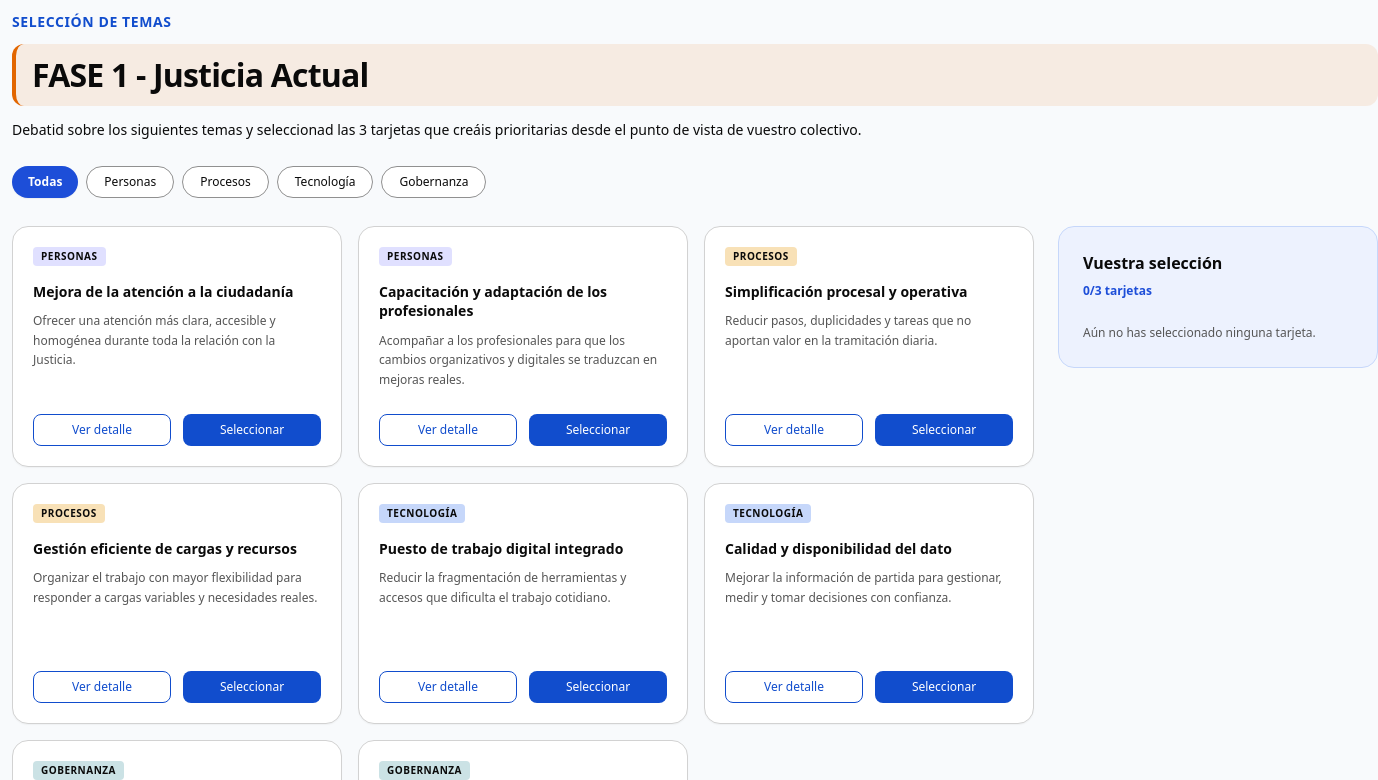
componentes principales › permite seleccionar y quitar desde la bandeja
Click the button "Seleccionar" below "Mejora de la atención a la ciudadanía": {"x": 252, "y": 430} [183,414,321,446]
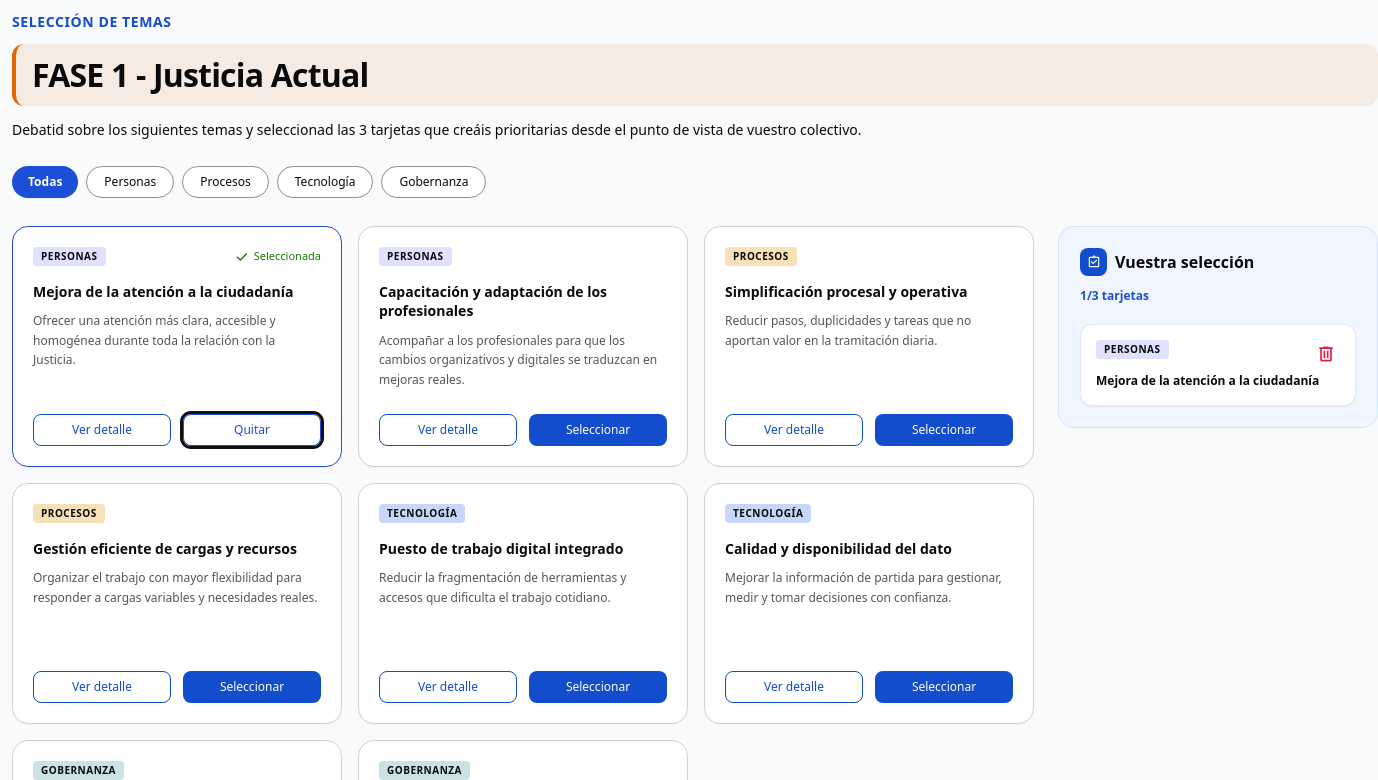
Result: the text "1/3 tarjetas" is shown at [1080,287,1149,304]
Click the button named "Quitar Mejora de la atención a la ciudadanía": {"x": 1326, "y": 354} [1312,340,1340,368]
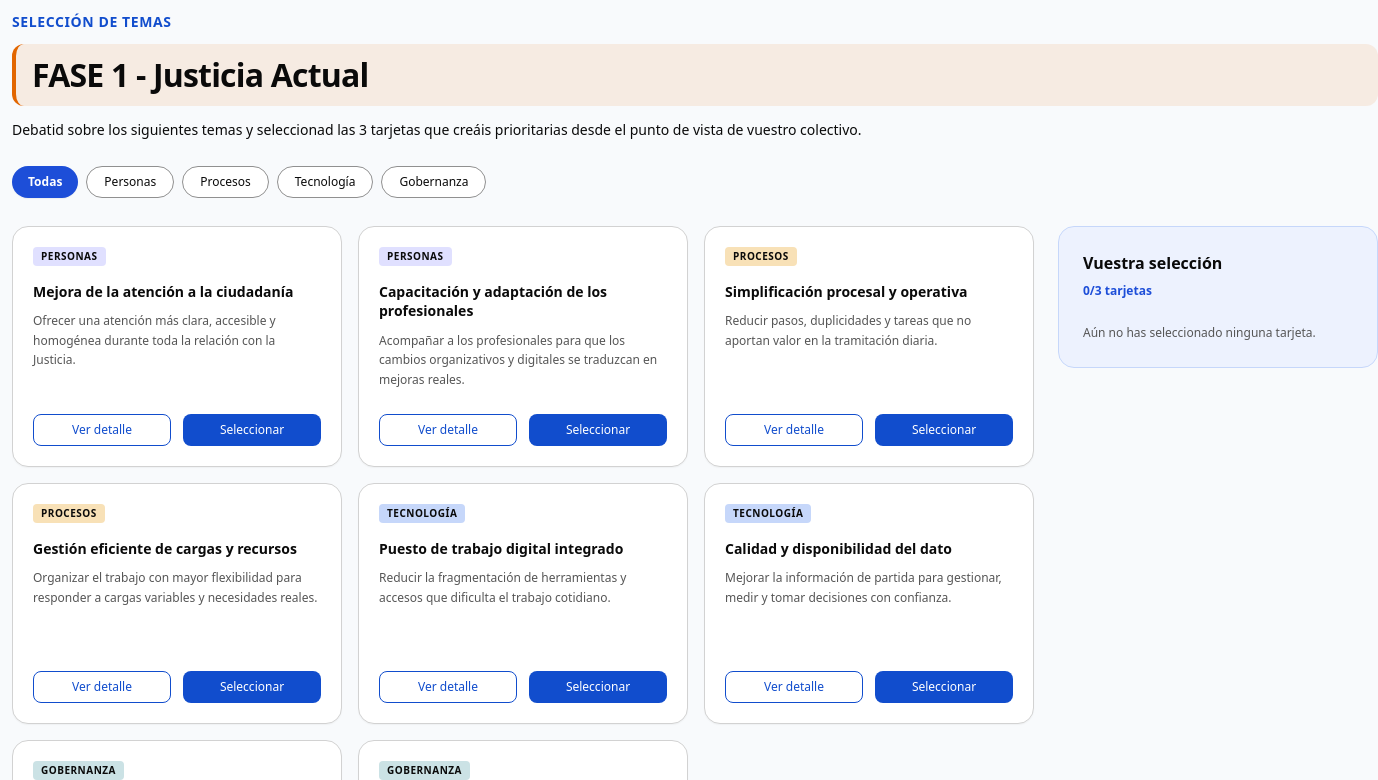
Result: the text "0/3 tarjetas" is shown at [1083,282,1152,299]
